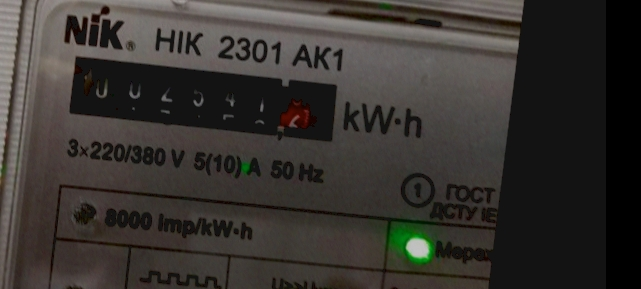0: (124, 67, 147, 102), (93, 69, 114, 100)
1: (252, 80, 272, 115)
2: (155, 70, 180, 106)
4: (221, 77, 242, 110)
5: (189, 76, 209, 110)
6: (285, 108, 303, 131)
screen: (53, 36, 361, 162)
